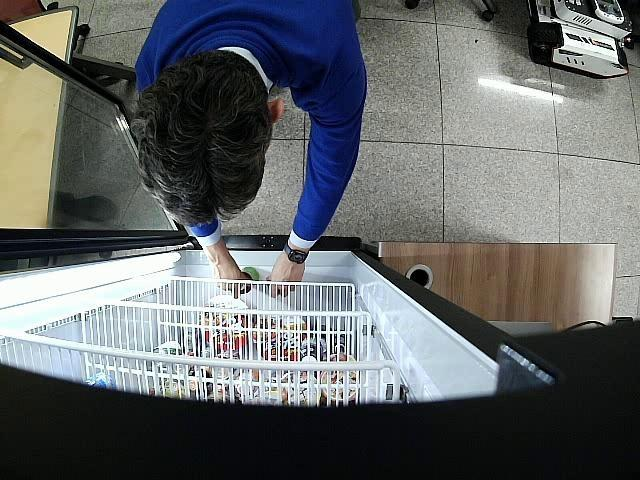19_17cha: (240, 267, 260, 294)
